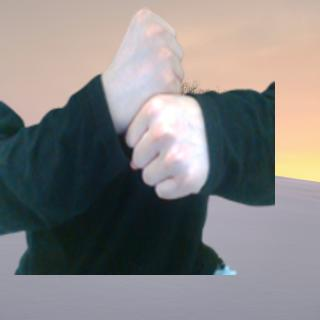CAREFUL: (98, 1, 211, 206)
